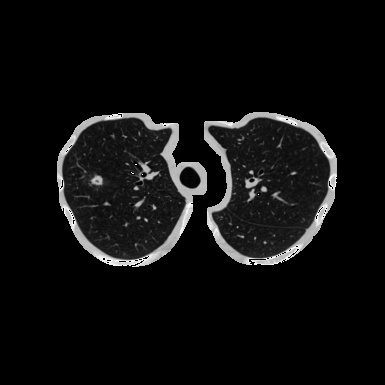PN: (92, 175, 102, 185)
